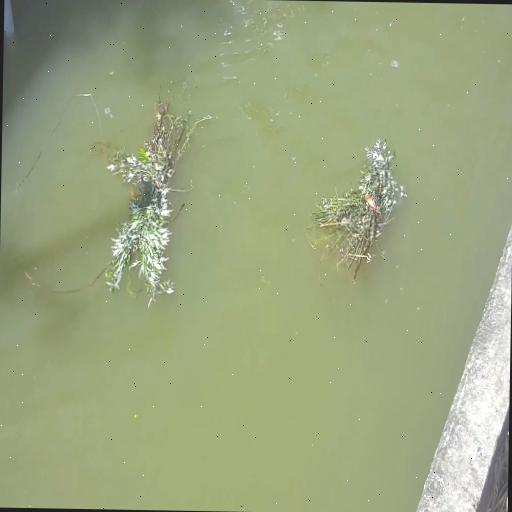twig: (96, 86, 208, 306), (307, 136, 406, 286)
